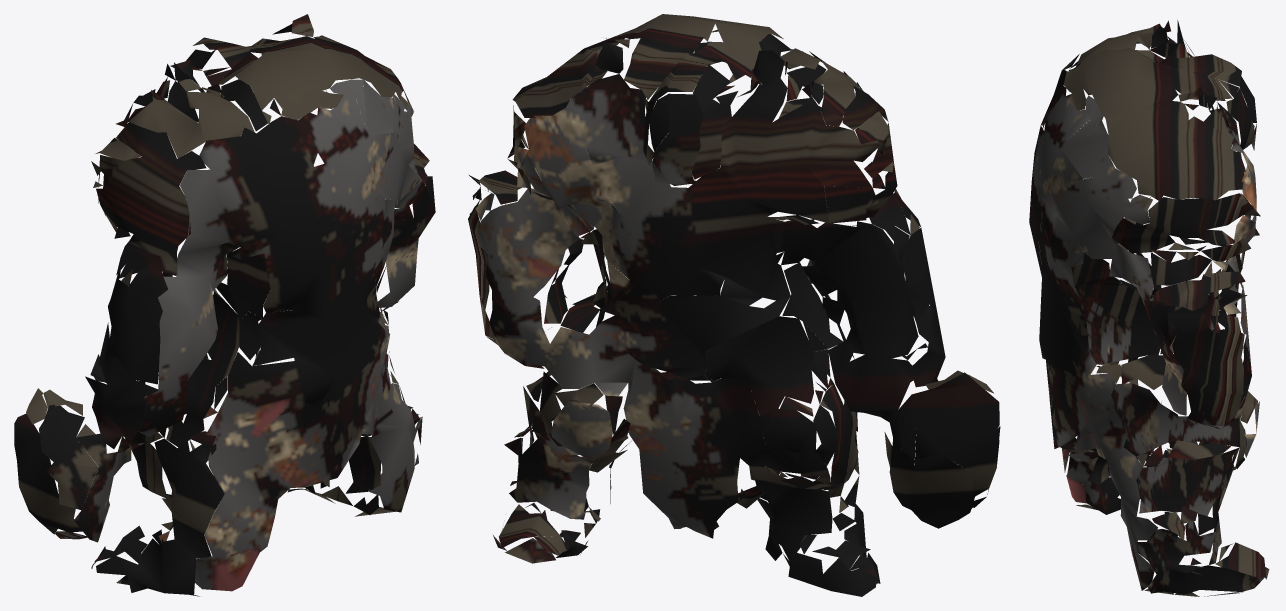
The picture shows the model from 3 angles, left to right: view 1: azimuth 30°, elevation 25°; view 2: azimuth 150°, elevation 25°; view 3: azimuth 270°, elevation 25°; orthographic projection. The views are drawn at different scales.
Parts seen in each view (by area): view 1: body.002; view 2: body.002; view 3: body.002.
Part boxes in pixels (x1=…): body.002: x1=14, y1=14, x2=435, y2=596; body.002: x1=468, y1=14, x2=1000, y2=596; body.002: x1=1029, y1=20, x2=1269, y2=596.
Bounding box in the file's own units: 1.89 × 2 × 0.9067.
Materials: 1 (1 with a texture image).
